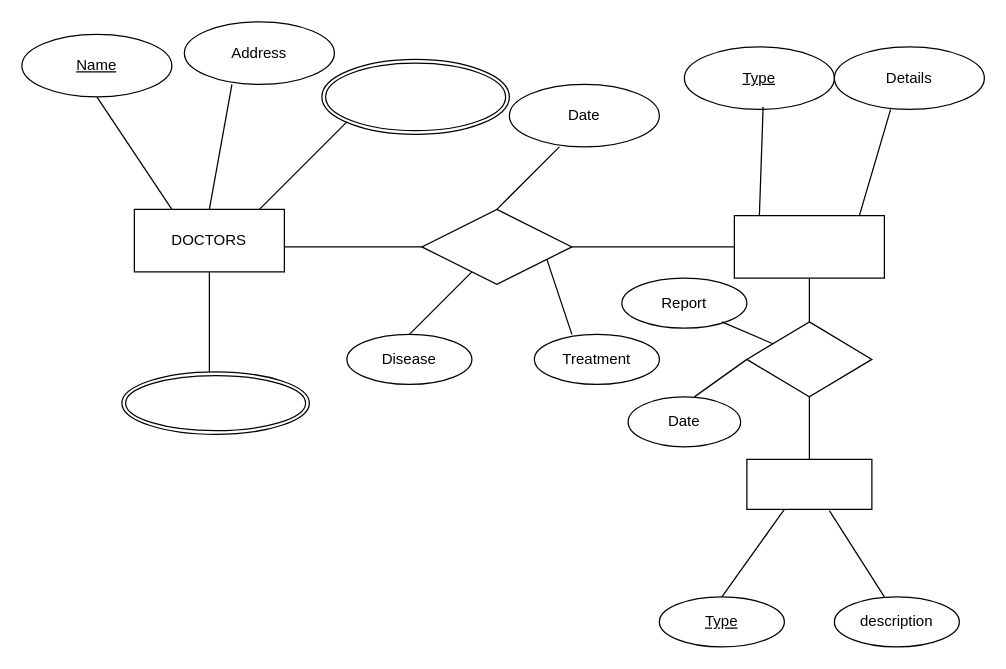
This 1006x669 diagram has some shape labels left out. Here are the shapes that lost their labels. From the top down, the centre of each, then its label:
point 415,96: Specialization
point 496,246: Treats
point 808,246: PATIENTS
point 809,359: Log
point 215,402: Qualification
point 809,483: Tests
